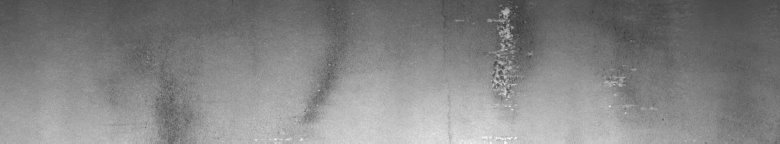hc: (448, 4, 539, 110)
